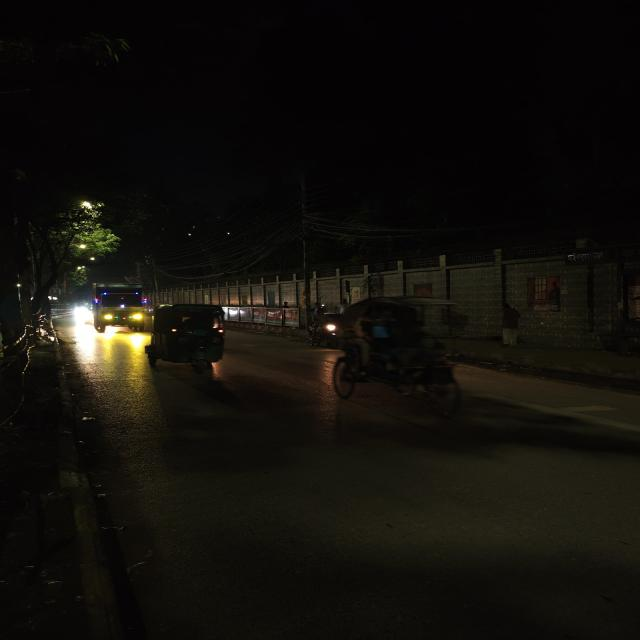motorcycle: (299, 308, 338, 351)
pedestrian: (491, 298, 530, 349)
rickshaw: (324, 292, 469, 416), (143, 303, 239, 382)
truck: (85, 281, 152, 331)
